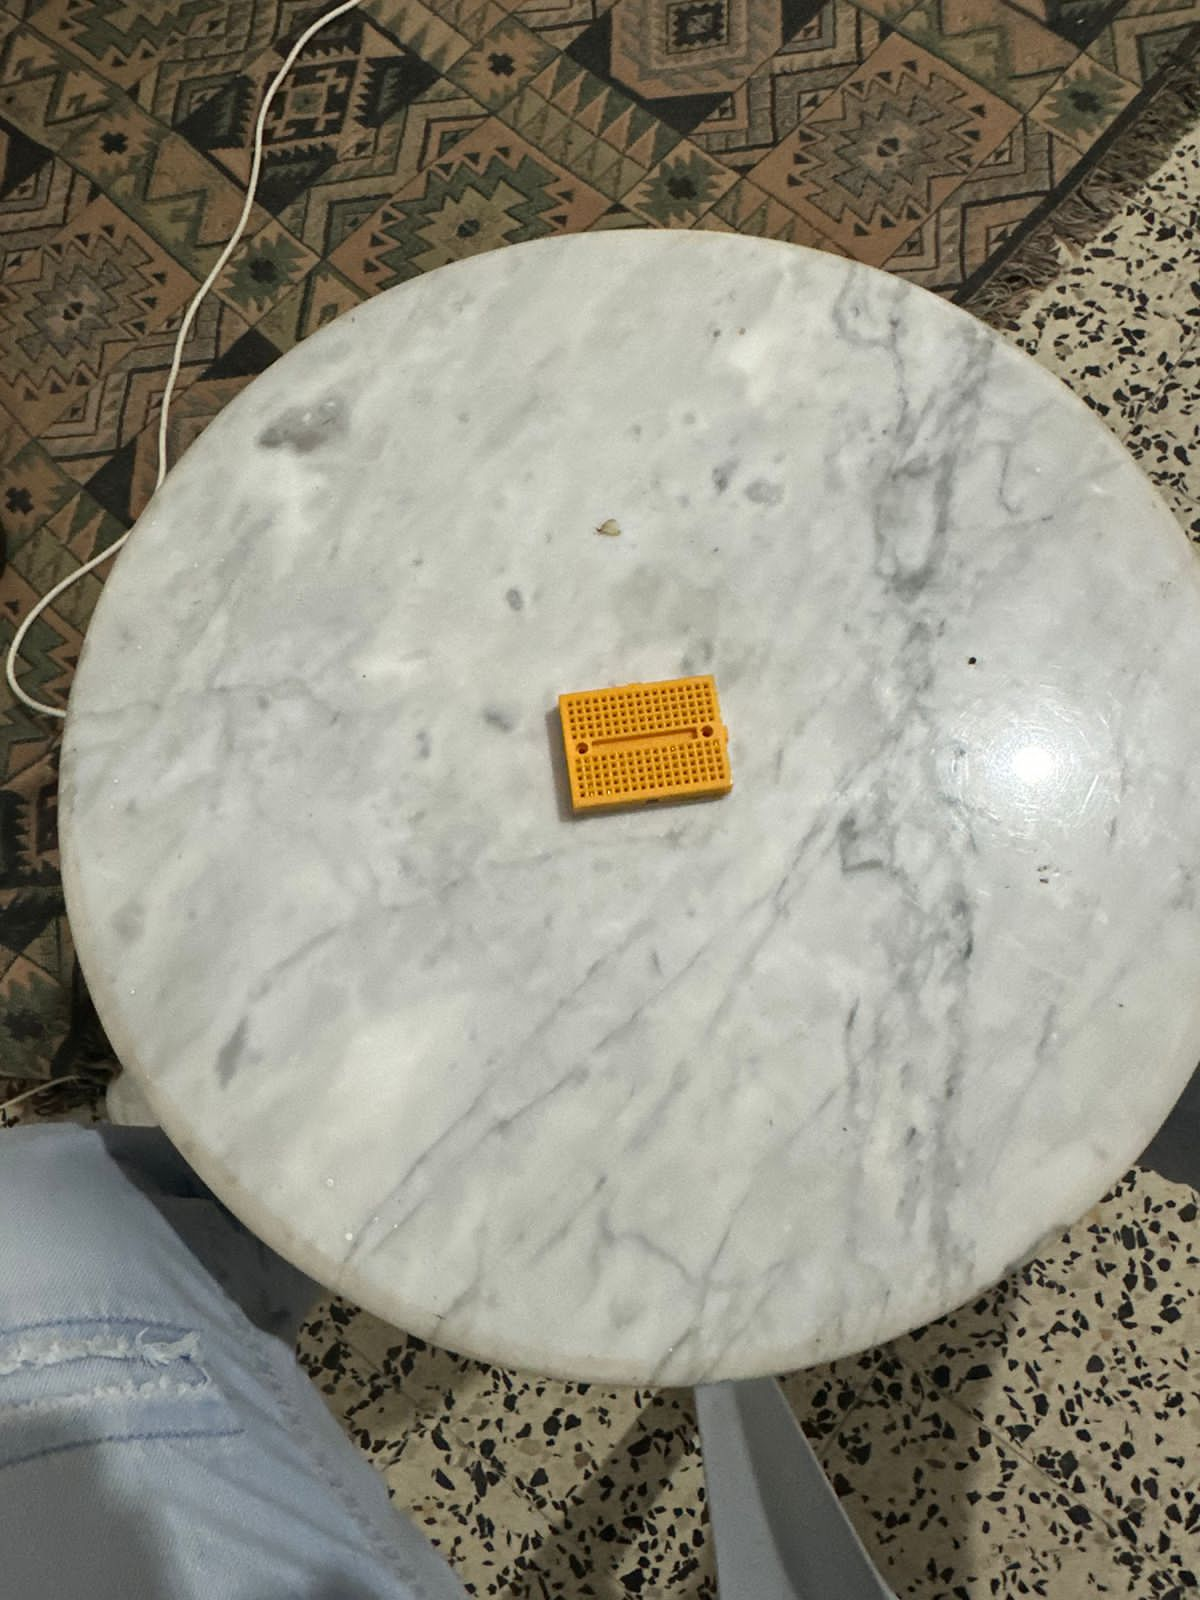breadboard: (553, 680, 734, 813)
